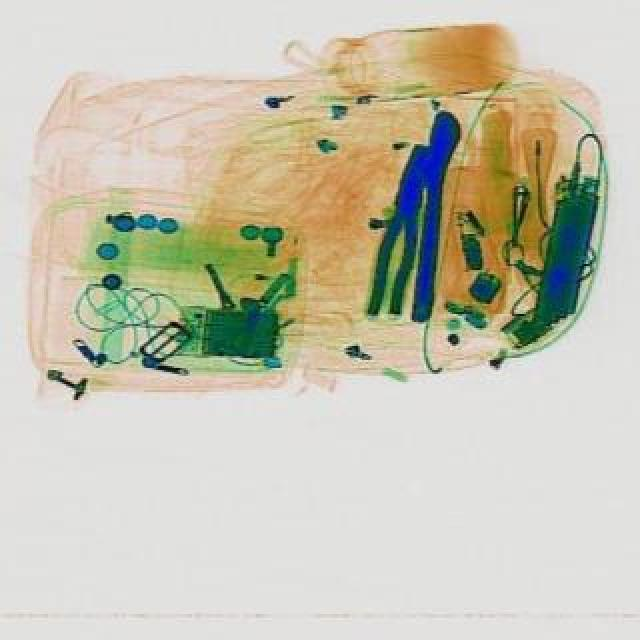scissors: (396, 112, 462, 330)
wrench: (360, 142, 442, 322)
